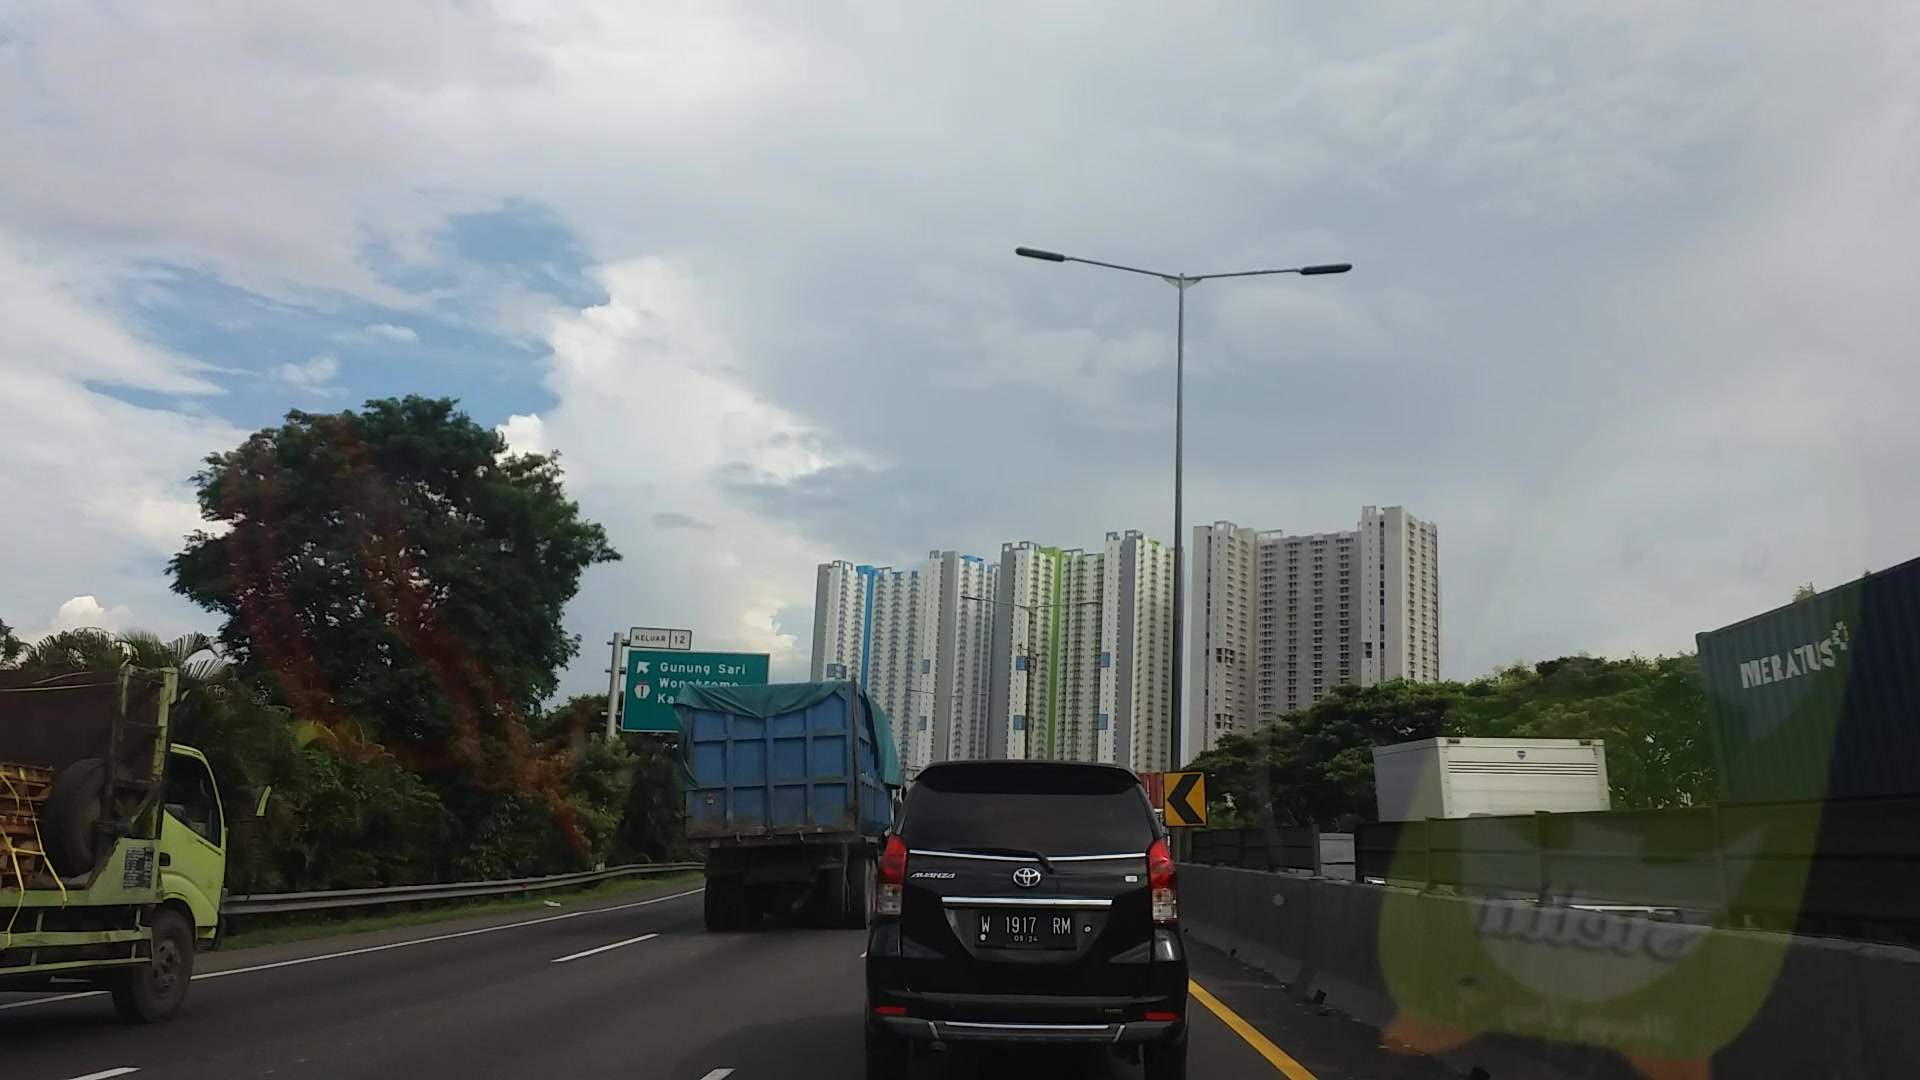plate_positive: (977, 909, 1073, 945)
